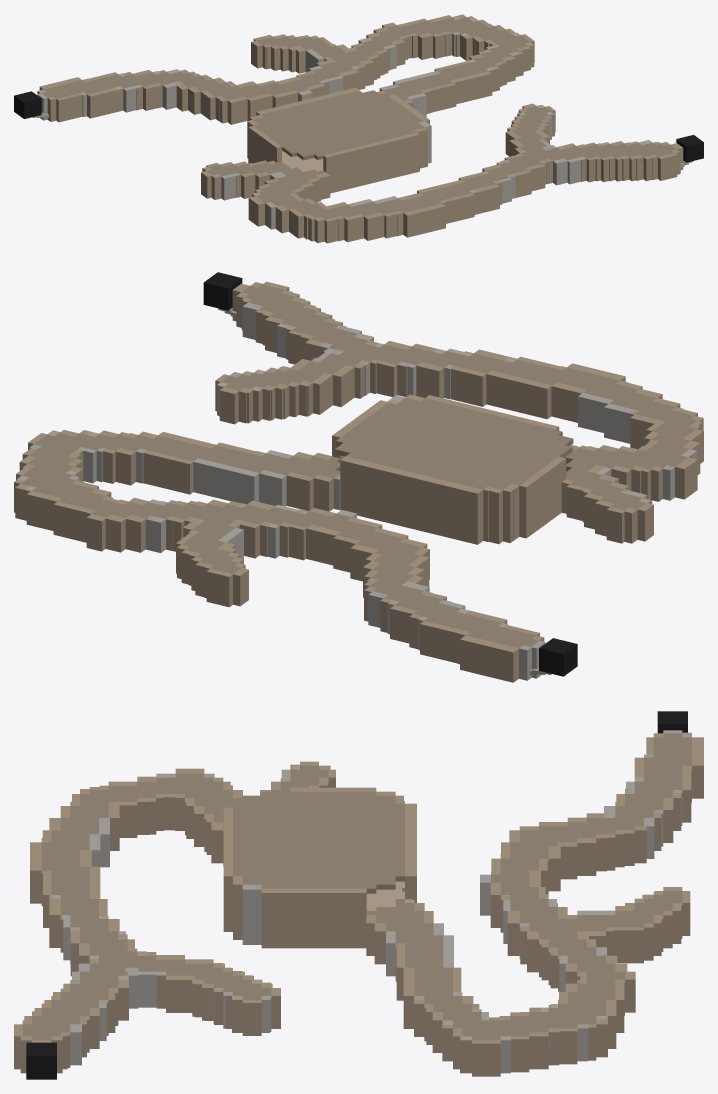
File: porao_estrutura.gltf
3 views of the same model, one above another, from view 1: azimuth 30°, elevation 25°; view 2: azimuth 150°, elevation 25°; view 3: azimuth 270°, elevation 25° (orthographic). The views are drawn at different scales.
Visible parts, largest first — view 1: por_01_02, por_01_01, por_02_02, por_00_02, por_02_00, por_00_00, por_01_00, por_02_01, por_01_03, por_03_03, por_00_01, por_03_01 (+2 smaller); view 2: por_01_01, por_02_02, por_01_02, por_01_00, por_02_01, por_02_00, por_00_00, por_00_02, por_00_01, por_03_00, por_03_01, por_03_03 (+2 smaller); view 3: por_02_02, por_01_01, por_02_01, por_01_02, por_02_00, por_01_00, por_00_02, por_00_00, por_03_01, por_03_00, por_03_03, por_01_03 (+3 smaller).
Boxes of the visible parts, <box> form: por_01_02: <box>282,114,490,217</box>; por_01_01: <box>227,73,413,171</box>; por_02_02: <box>414,103,622,204</box>; por_00_02: <box>221,162,357,243</box>; por_02_00: <box>287,18,466,89</box>; por_00_00: <box>17,70,183,122</box>; por_01_00: <box>159,34,337,123</box>; por_02_01: <box>338,51,501,117</box>; por_01_03: <box>358,185,494,240</box>; por_03_03: <box>623,135,703,181</box>; por_00_01: <box>201,126,281,199</box>; por_03_01: <box>476,31,534,86</box>; por_01_01: <box>270,412,558,548</box>; por_02_02: <box>215,310,481,424</box>; por_01_02: <box>376,355,664,471</box>; por_01_00: <box>195,510,429,632</box>; por_02_01: <box>105,410,375,510</box>; por_02_00: <box>42,468,269,590</box>; por_00_00: <box>387,577,572,682</box>; por_00_02: <box>566,400,703,501</box>; por_00_01: <box>519,456,653,543</box>; por_03_00: <box>14,451,81,528</box>; por_03_01: <box>27,430,130,483</box>; por_03_03: <box>203,272,310,321</box>; por_02_02: <box>60,888,290,1040</box>; por_01_01: <box>290,791,519,943</box>; por_02_01: <box>290,888,519,1036</box>; por_01_02: <box>60,791,290,939</box>; por_02_00: <box>519,911,672,1032</box>; por_01_00: <box>519,814,690,943</box>; por_00_02: <box>60,768,290,846</box>; por_00_00: <box>586,713,703,846</box>; por_03_01: <box>424,1008,519,1076</box>; por_03_00: <box>519,1008,616,1072</box>; por_03_03: <box>14,1008,60,1079</box>; por_01_03: <box>30,818,60,927</box>.
Size of the model in its own units: 85.2 by 6.4 by 72.16.
